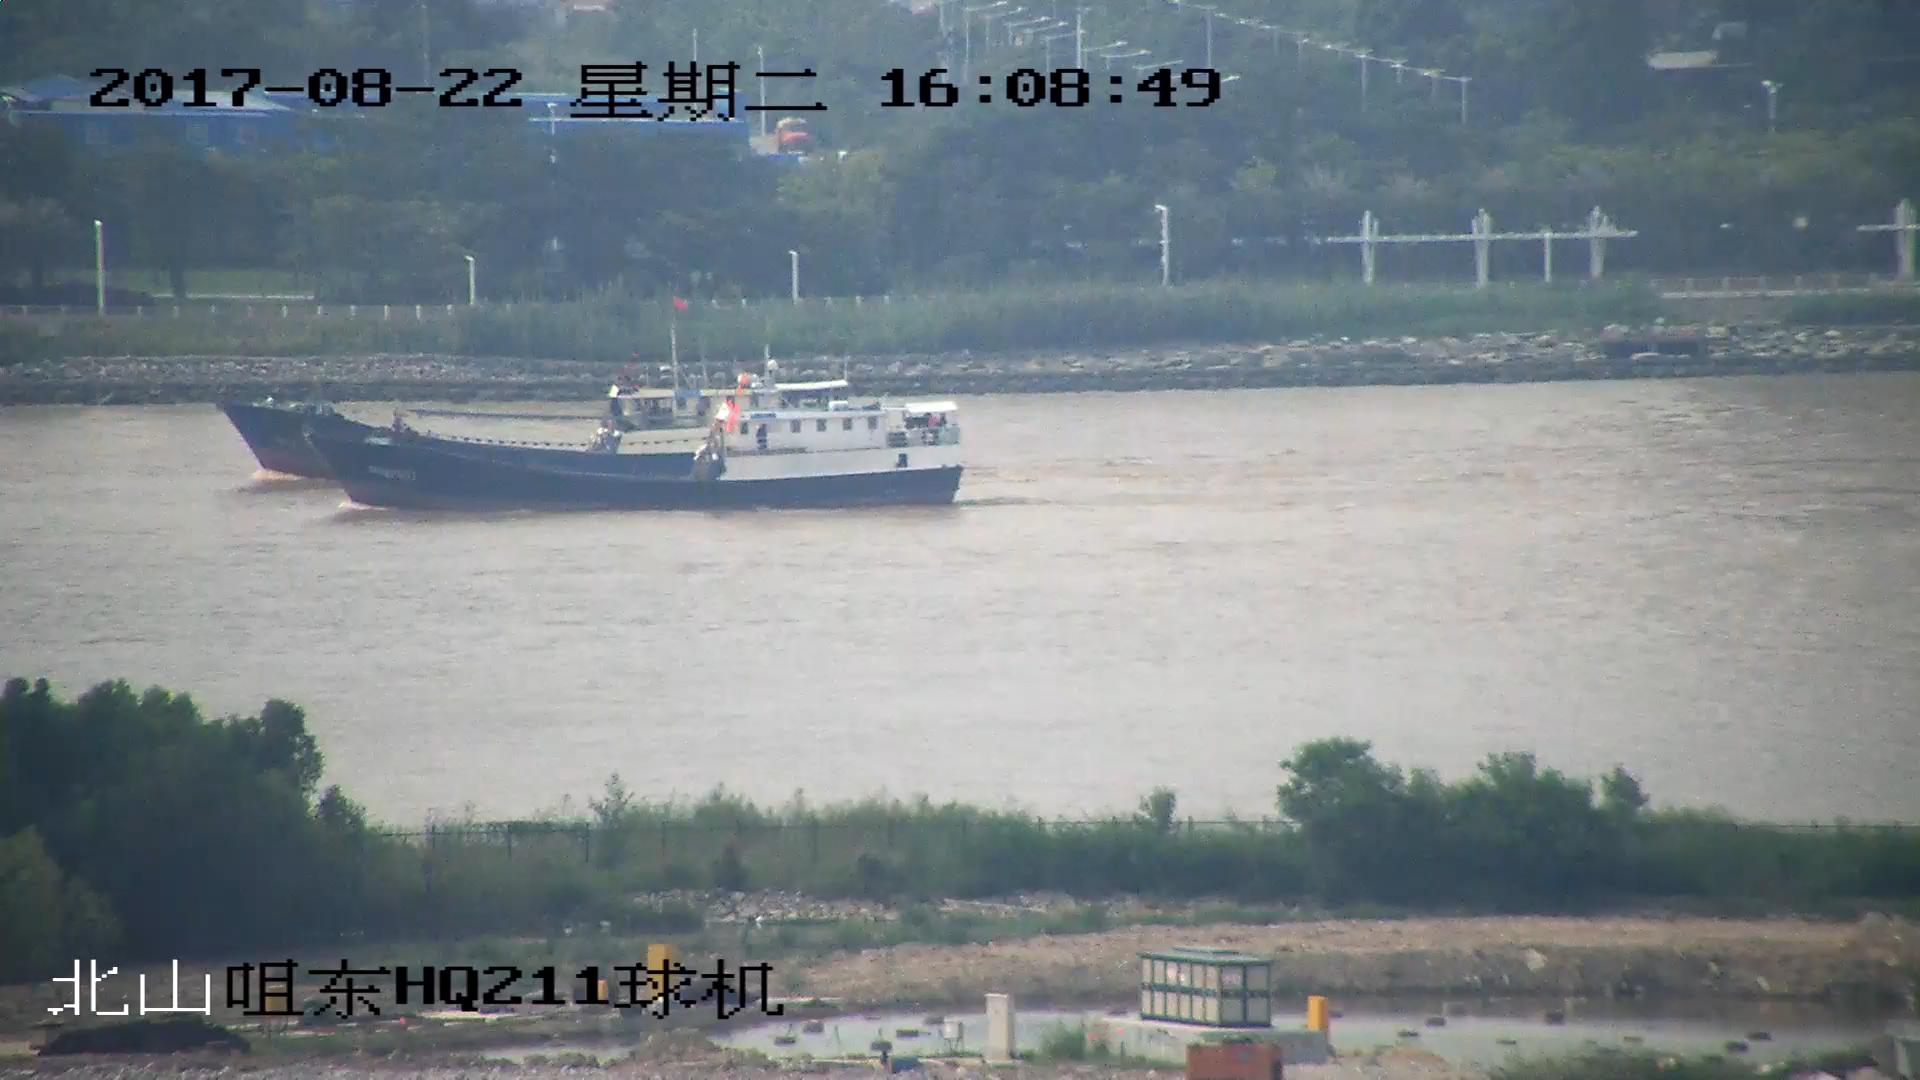fishing boat: (216, 299, 853, 486), (312, 382, 959, 512)
